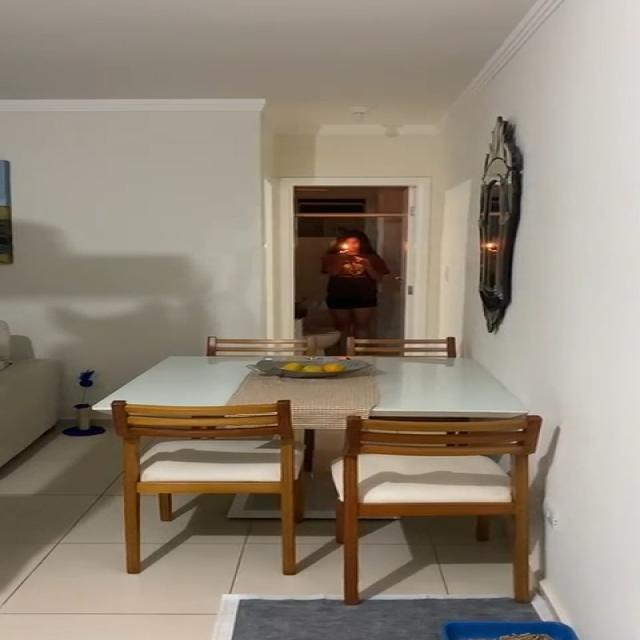fire: (338, 240, 350, 253)
